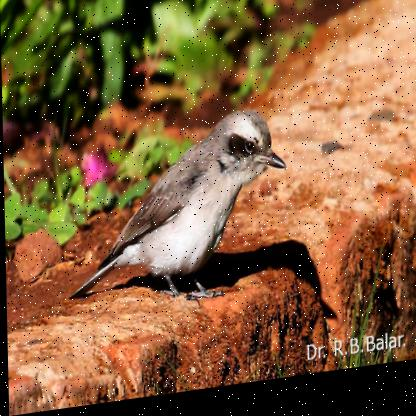Burung: (62, 111, 287, 319)
